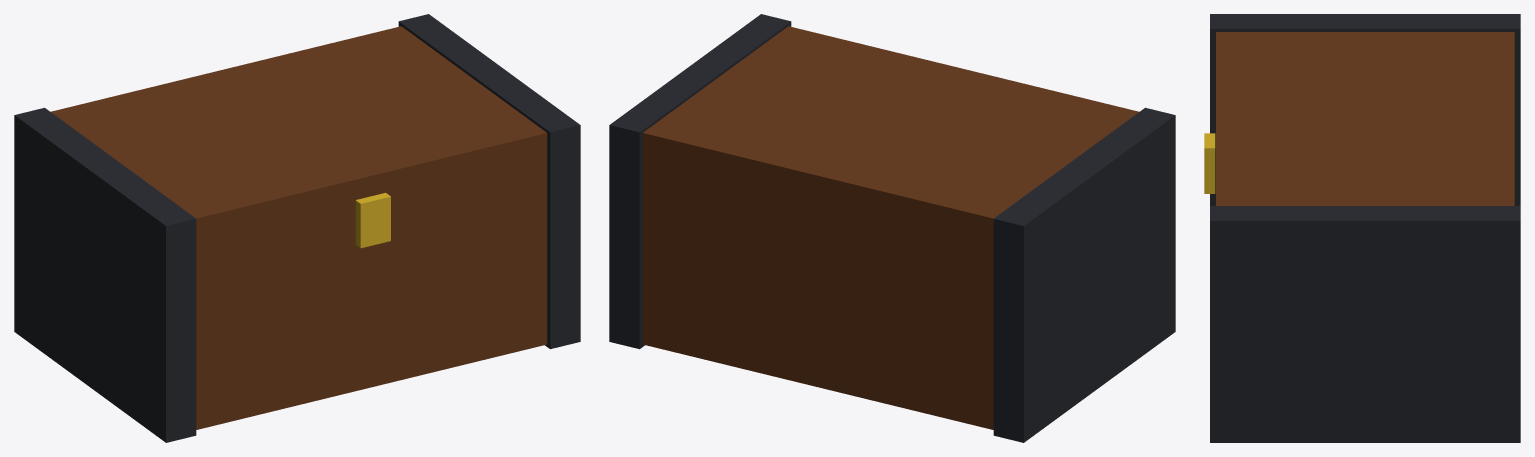
Rendered from chest_base.obj.
The picture shows the model from 3 angles, left to right: view 1: azimuth 30°, elevation 25°; view 2: azimuth 150°, elevation 25°; view 3: azimuth 270°, elevation 25°; orthographic projection. The views are drawn at different scales.
Parts seen in each view (by area): view 1: Cube, Cube.001, Cube.002, Cube.003; view 2: Cube, Cube.001, Cube.002; view 3: Cube.002, Cube, Cube.001, Cube.003.
Boxes of the visible parts, box(x1,y1,x2,y2) form: Cube: box(50, 26, 547, 429); Cube.001: box(14, 107, 196, 442); Cube.002: box(398, 14, 580, 349); Cube.003: box(355, 192, 390, 248); Cube: box(642, 26, 1139, 429); Cube.001: box(993, 107, 1175, 442); Cube.002: box(609, 14, 791, 349); Cube.002: box(1210, 206, 1520, 442); Cube: box(1216, 32, 1514, 205); Cube.001: box(1210, 14, 1520, 205); Cube.003: box(1204, 133, 1215, 193).
Size of the model in its own units: 0.82 by 0.41 by 0.529.
